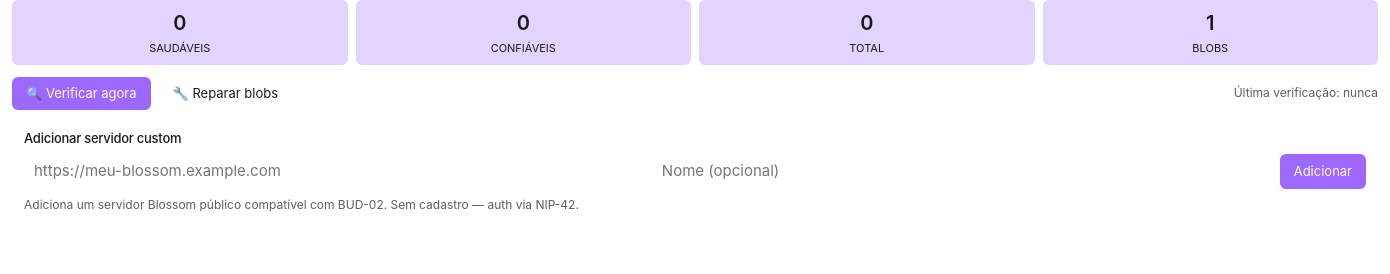
Test: BlossomServersPanel › shows repair result after completion
What coordinates should you click on to do the following:
click the button "🔧 Reparar blobs"
I would click on:
 (225, 93)
Its box is [159,76,292,110].
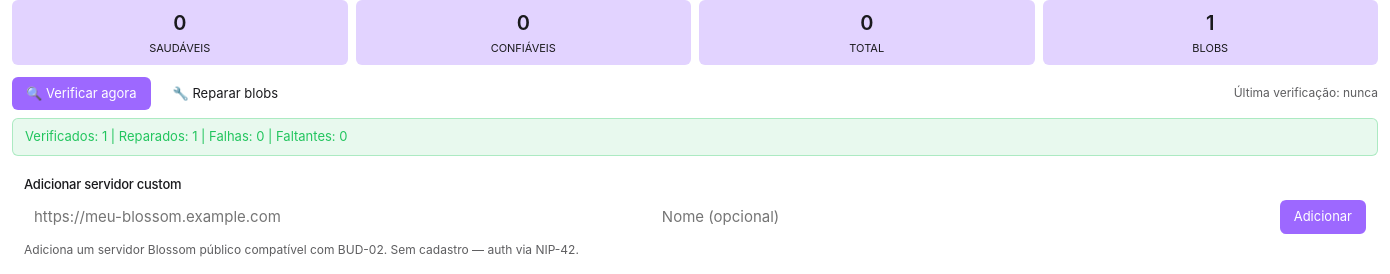
Expected: the text "Verificados: 1" is shown, [25,128,348,144]
Expected: the text "Reparados: 1" is shown, [25,128,348,144]
